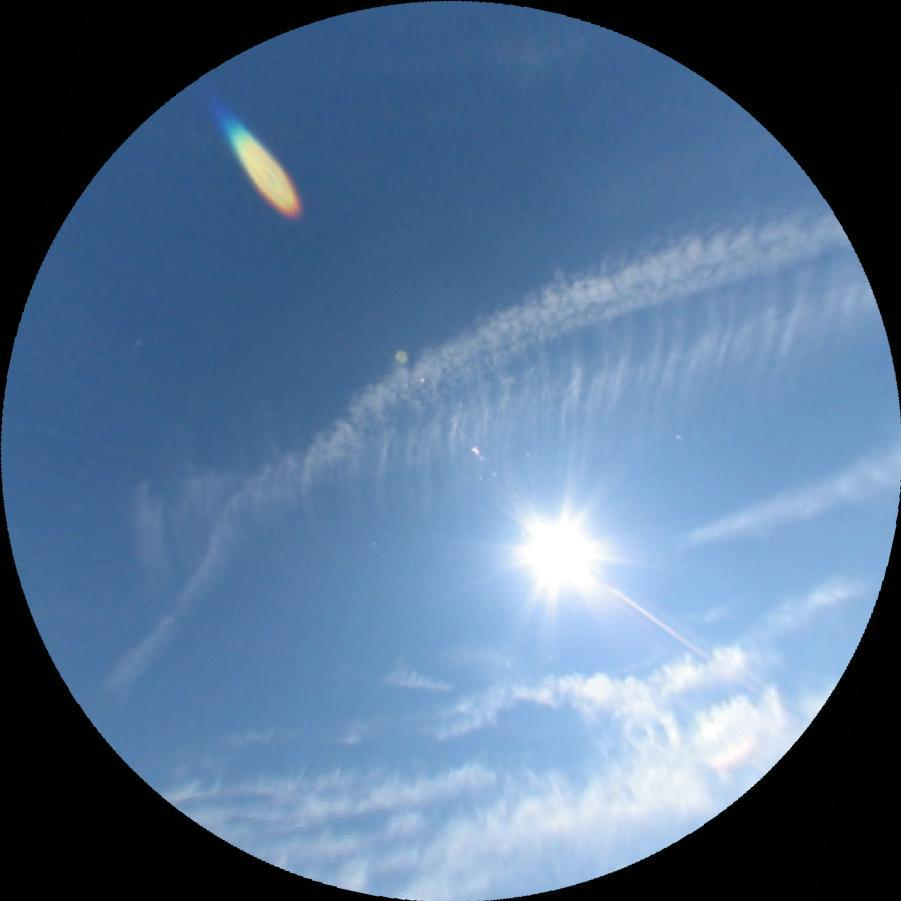contrail veryold: (39, 126, 852, 703), (106, 239, 894, 618)
parasite: (603, 582, 762, 696)
sun: (528, 524, 596, 583)
